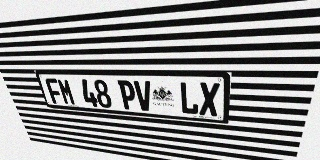4: (79, 79, 99, 107)
8: (93, 79, 113, 108)
F: (44, 78, 64, 104)
L: (179, 82, 199, 115)
M: (56, 78, 76, 105)
P: (117, 80, 137, 110)
V: (133, 80, 153, 111)
X: (199, 82, 220, 116)
